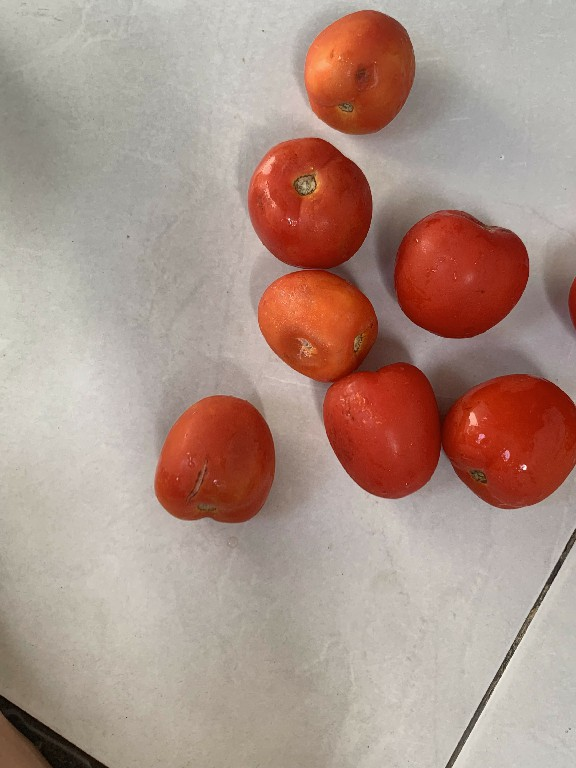NG: (148, 390, 275, 527), (253, 264, 383, 381), (304, 8, 415, 135)
OK: (392, 199, 535, 346), (441, 372, 575, 513), (318, 363, 442, 508), (243, 134, 374, 268)
